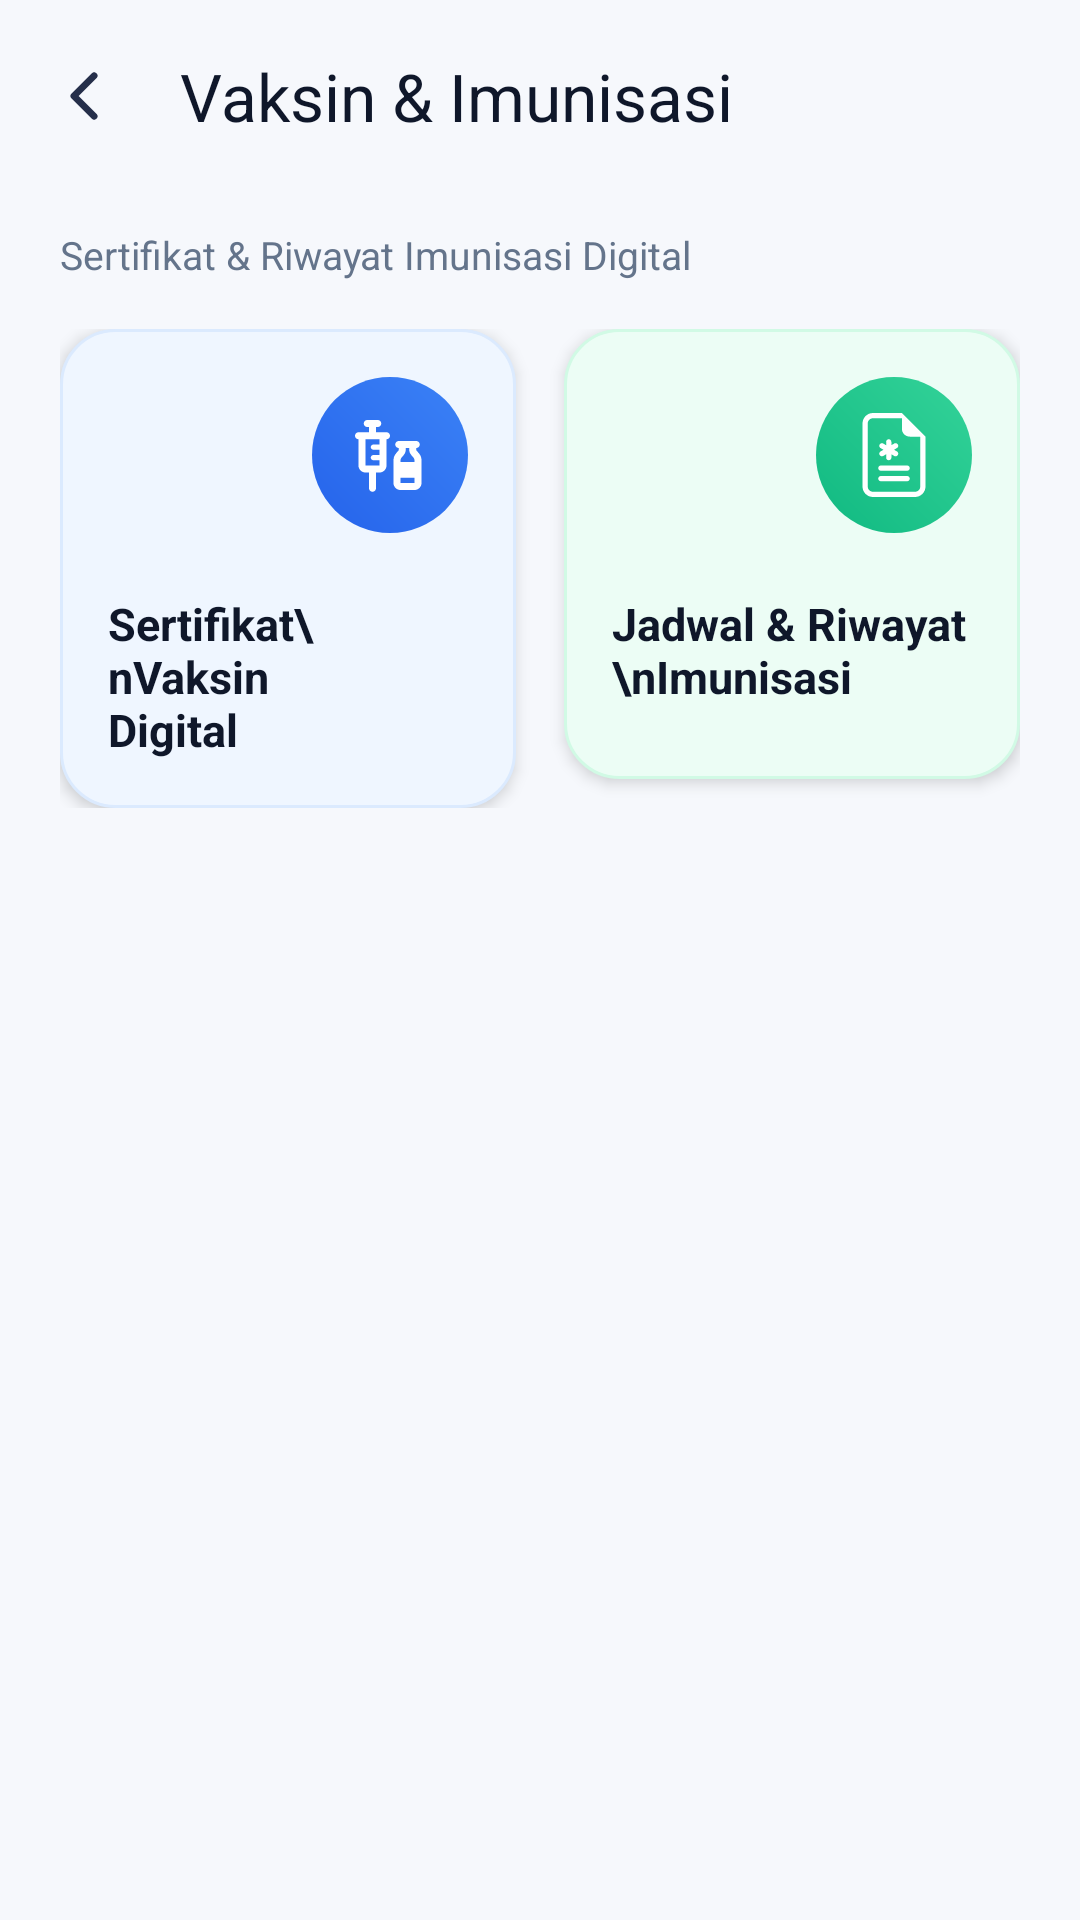

Where icons sit on this 1080×1920 app screen, as (x1, y1, x2, y2):
sertifikat imunisasi putih: (862, 413, 926, 497)
vaksin imunisasi putih: (355, 420, 422, 492)
